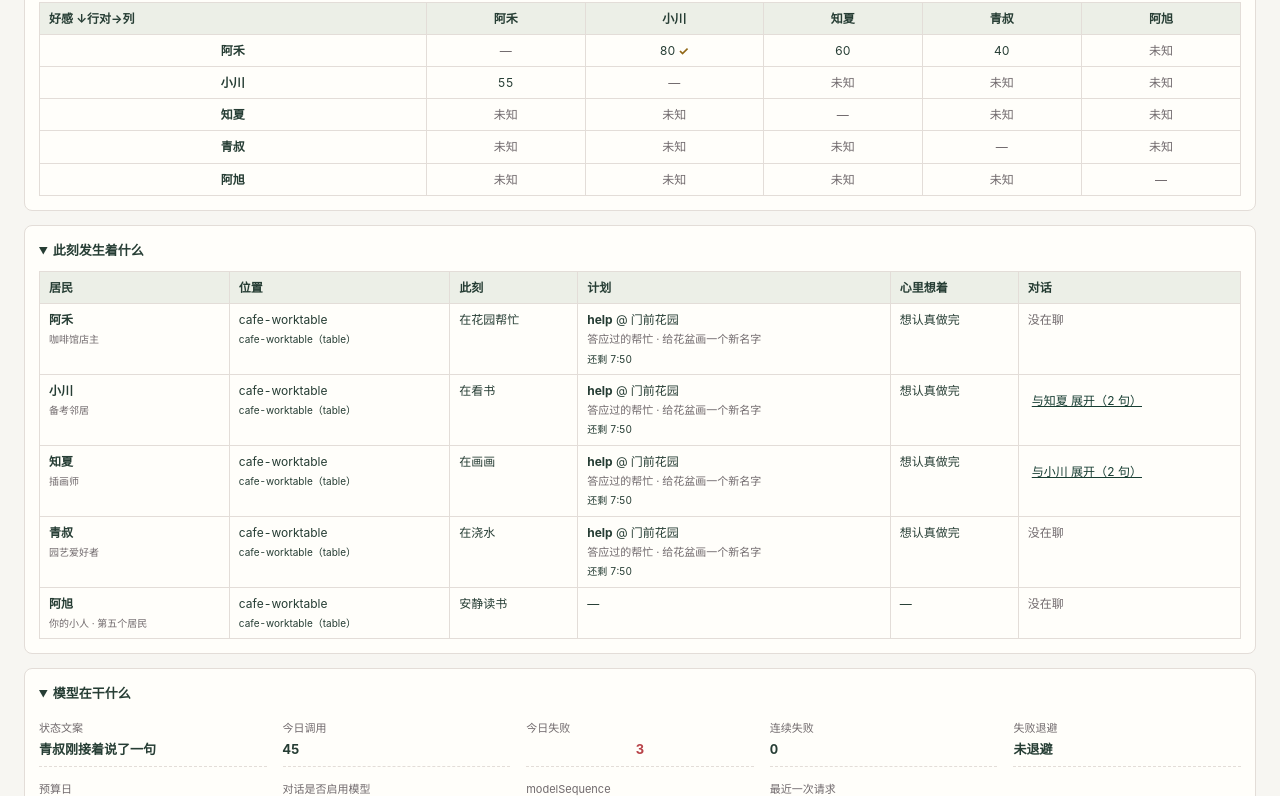
Test: companion debug view › shows current position, plan and active conversation for a resident
The width and height of the screenshot is (1280, 796).
(page scrolled)
Expected: the row that starts with "咖啡馆店主" shows "help", [587, 312, 613, 327]
Expected: the row that starts with "咖啡馆店主" shows "答应过的帮忙", [587, 332, 653, 346]
Click the 1st button. click: x=1087, y=401
box: [1028, 381, 1146, 421]
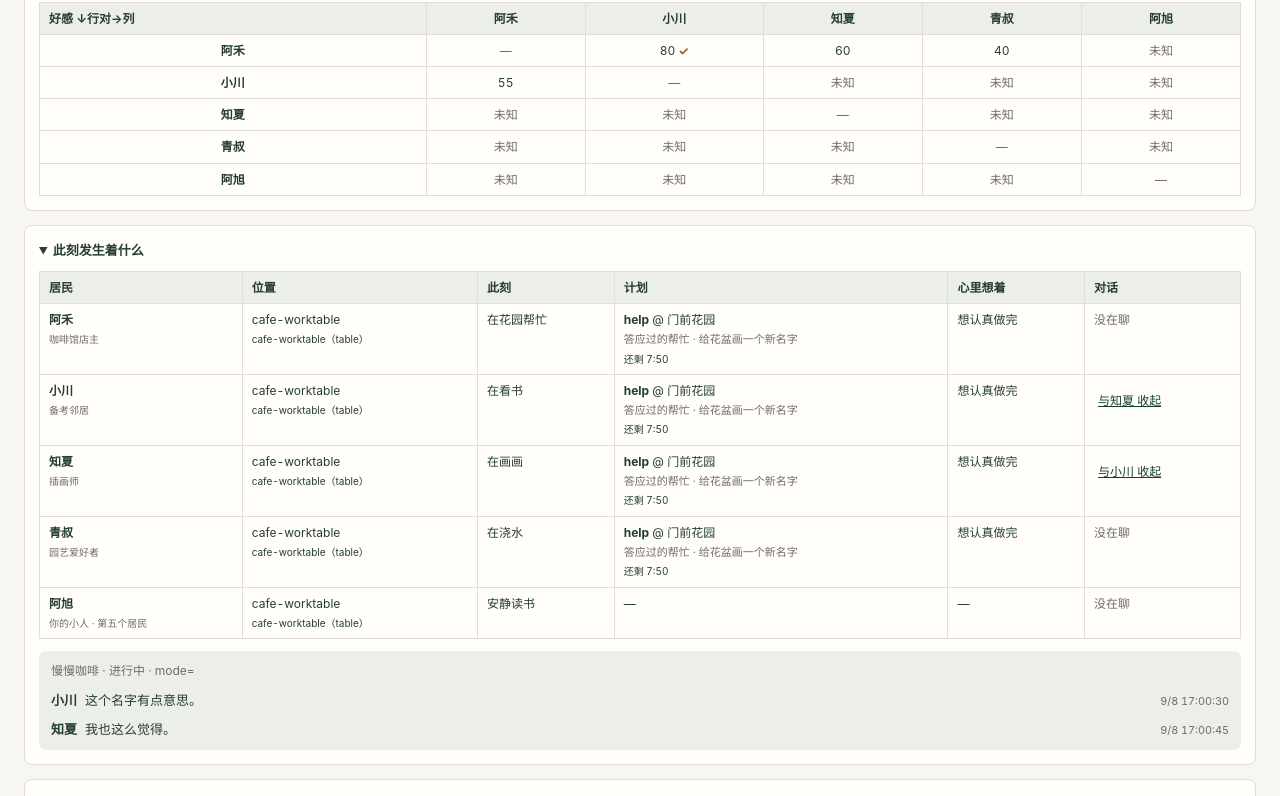
Result: the element with class "conversation-detail" shows "这个名字有点意思" at [85, 692, 202, 708]
